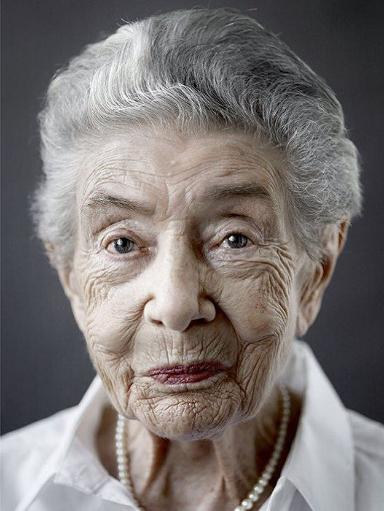left_eye: (212, 229, 257, 256)
left_lip_corner: (217, 357, 234, 383)
right_eye: (101, 233, 149, 261)
right_lip_corner: (137, 364, 161, 388)
